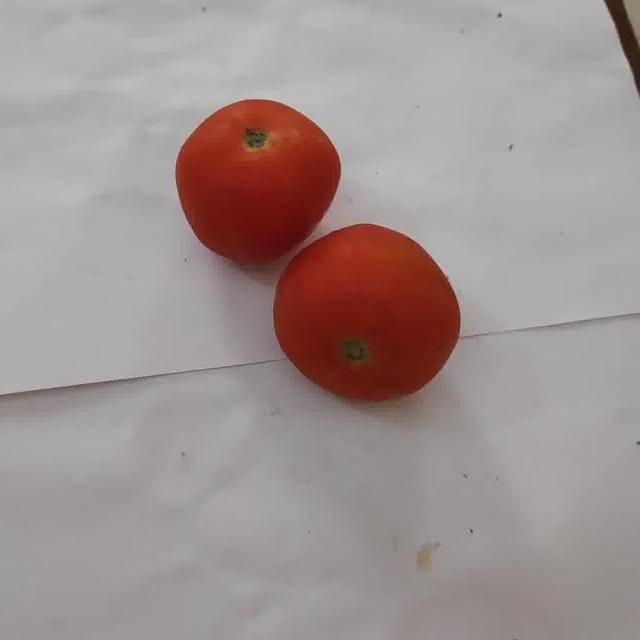Tomato: (273, 224, 460, 401), (176, 100, 340, 265)
